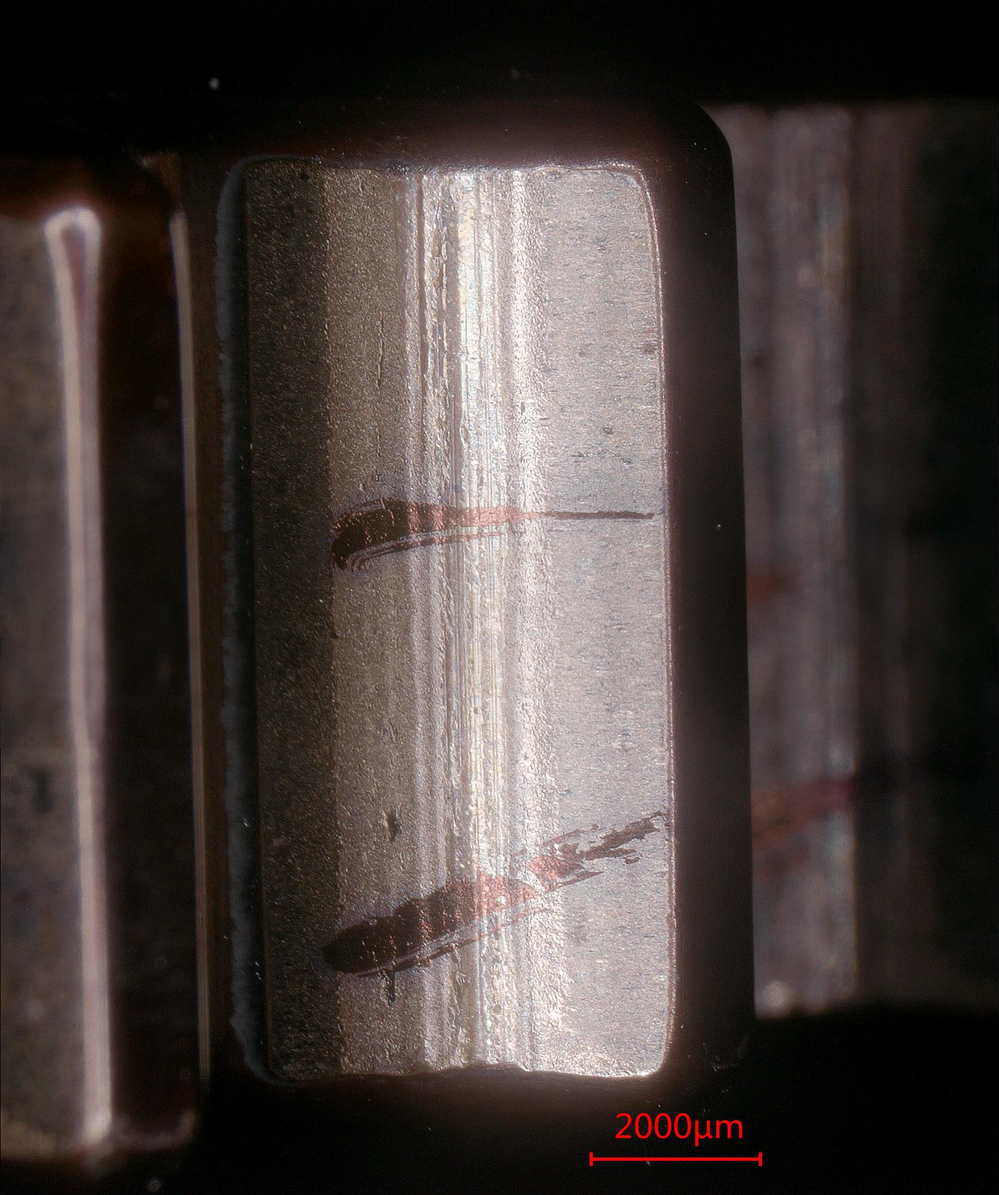Abrasion: (236, 168, 666, 1081)
